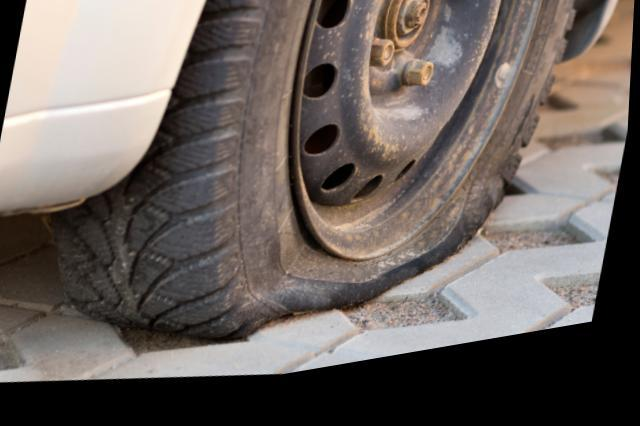tire flat: (57, 0, 584, 346)
